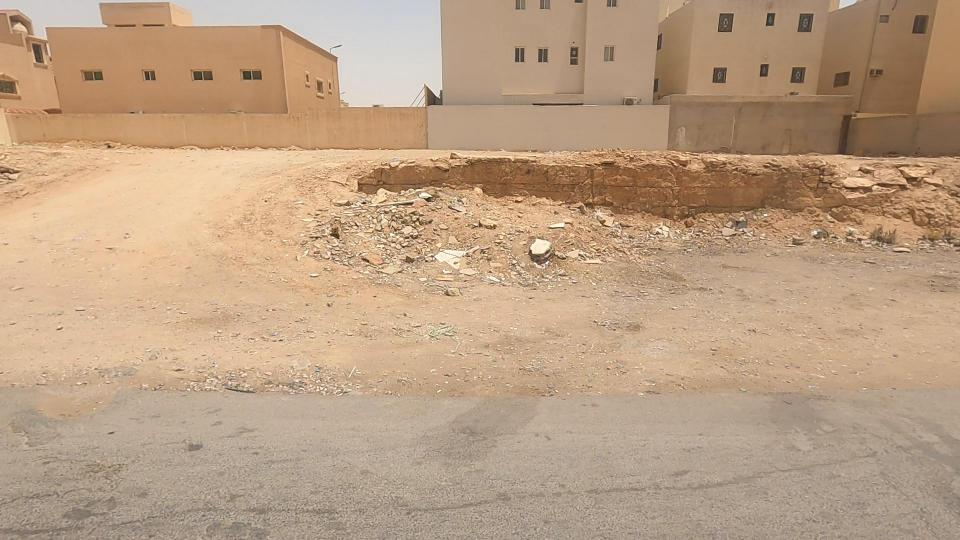GARBAGE: (392, 217, 517, 306), (684, 196, 783, 264)
